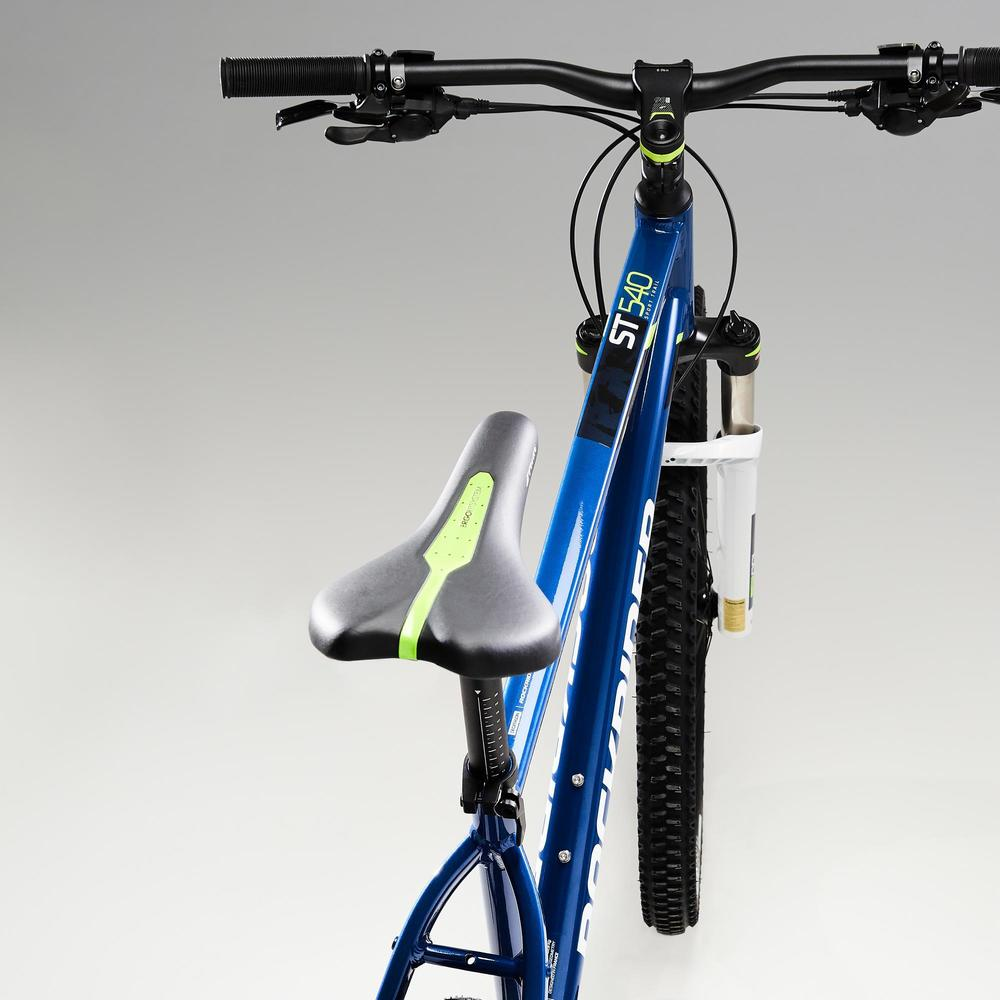MountainBike: (205, 36, 1000, 987)
